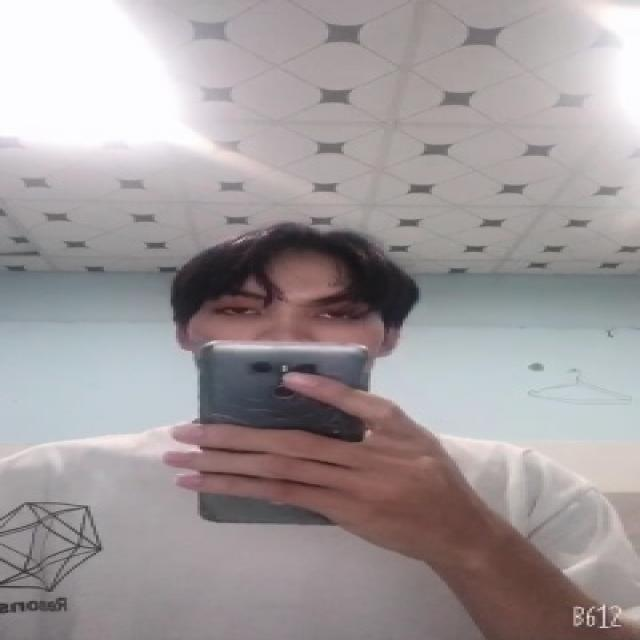Phone: (194, 342, 374, 528)
